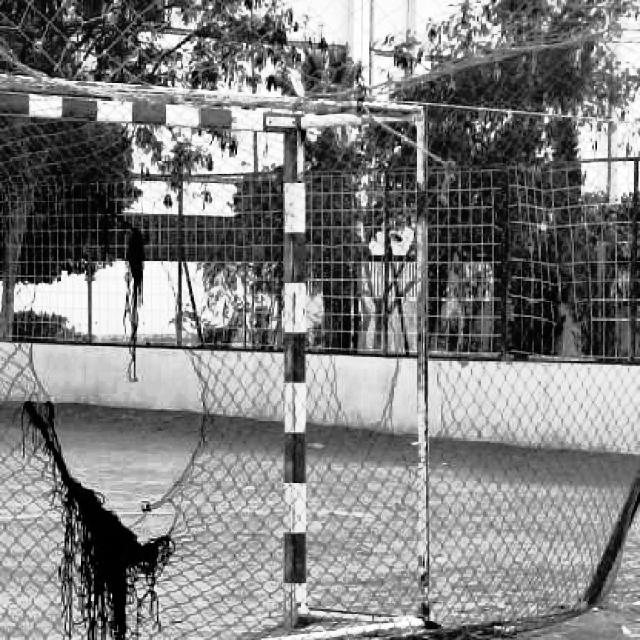anomaly-fence: (3, 150, 270, 639)
